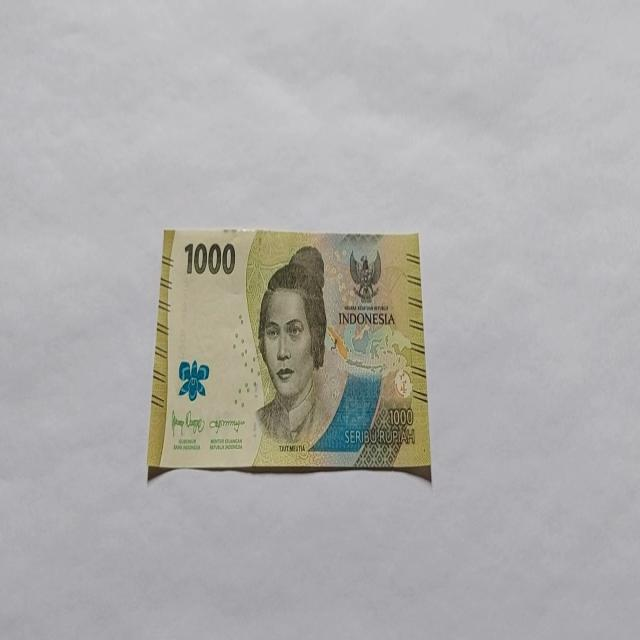seribu rupiah kertas: (146, 227, 432, 480)
